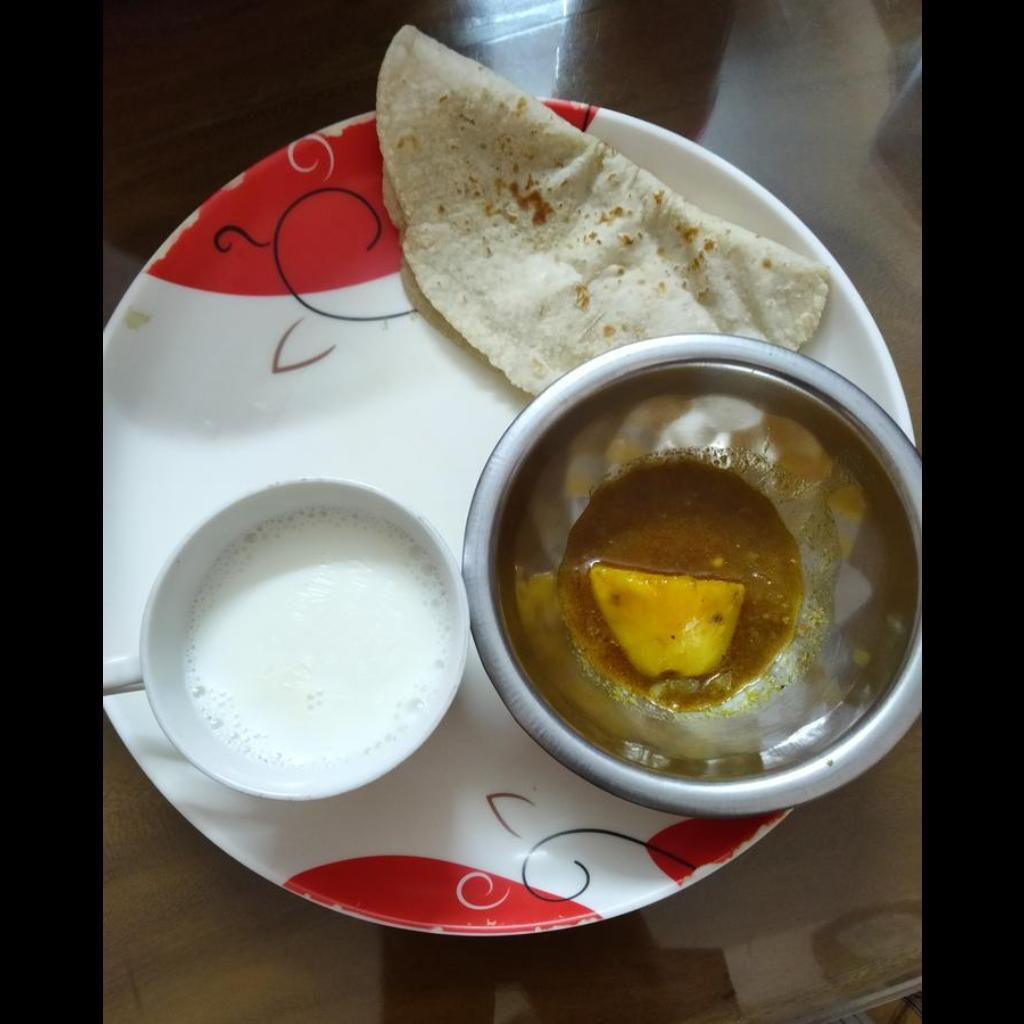milk: (185, 510, 442, 773)
potato: (588, 563, 741, 678)
ruti: (381, 24, 827, 395)
